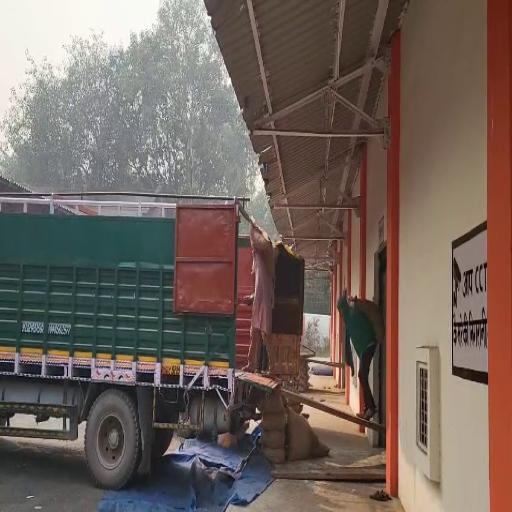bag: (346, 286, 387, 348), (249, 212, 283, 278)
